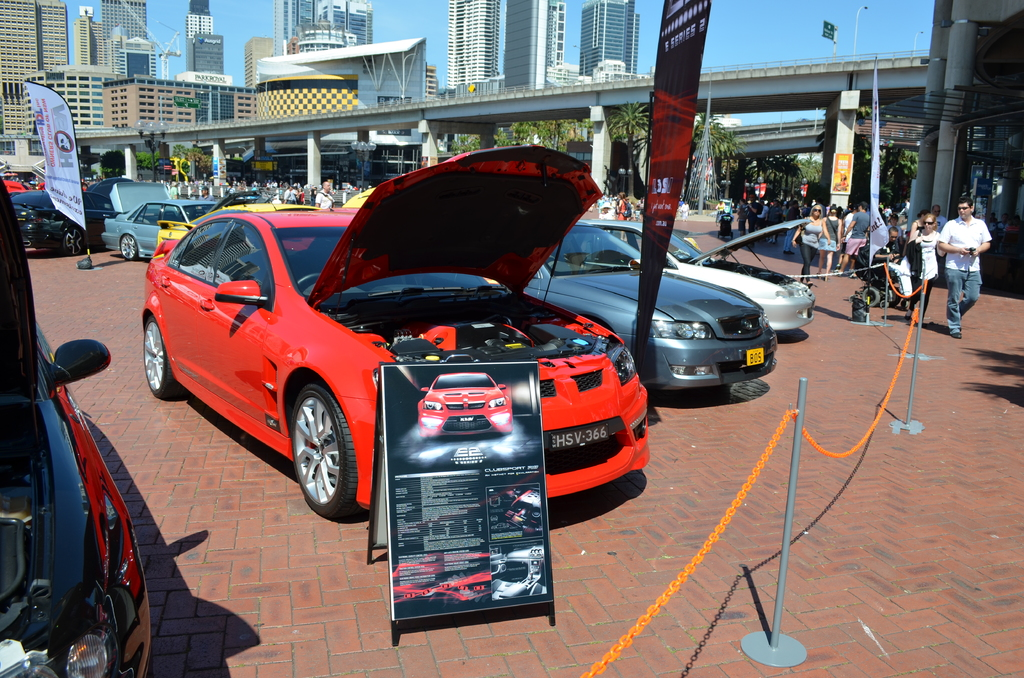Car: (128, 187, 654, 568), (516, 218, 776, 404), (587, 213, 816, 345), (101, 180, 264, 261), (21, 181, 178, 259), (0, 168, 48, 199), (11, 188, 42, 211)
